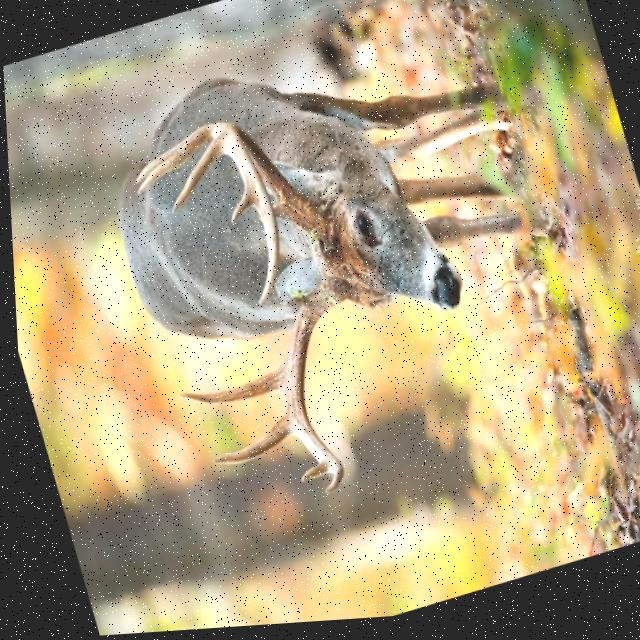E1: (294, 466, 324, 486)
L-F: (225, 126, 330, 308)
L-G3: (133, 124, 225, 197)
L-G4: (168, 141, 222, 215)
L-G5: (227, 190, 250, 227)
R-F: (278, 287, 342, 498)
R-G1: (281, 299, 304, 311)
R-G2: (171, 371, 276, 407)
R-G3: (206, 416, 289, 467)
